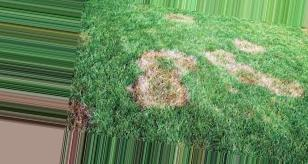patch: (141, 57, 189, 108), (214, 52, 260, 83), (170, 14, 202, 30), (235, 40, 259, 56)
